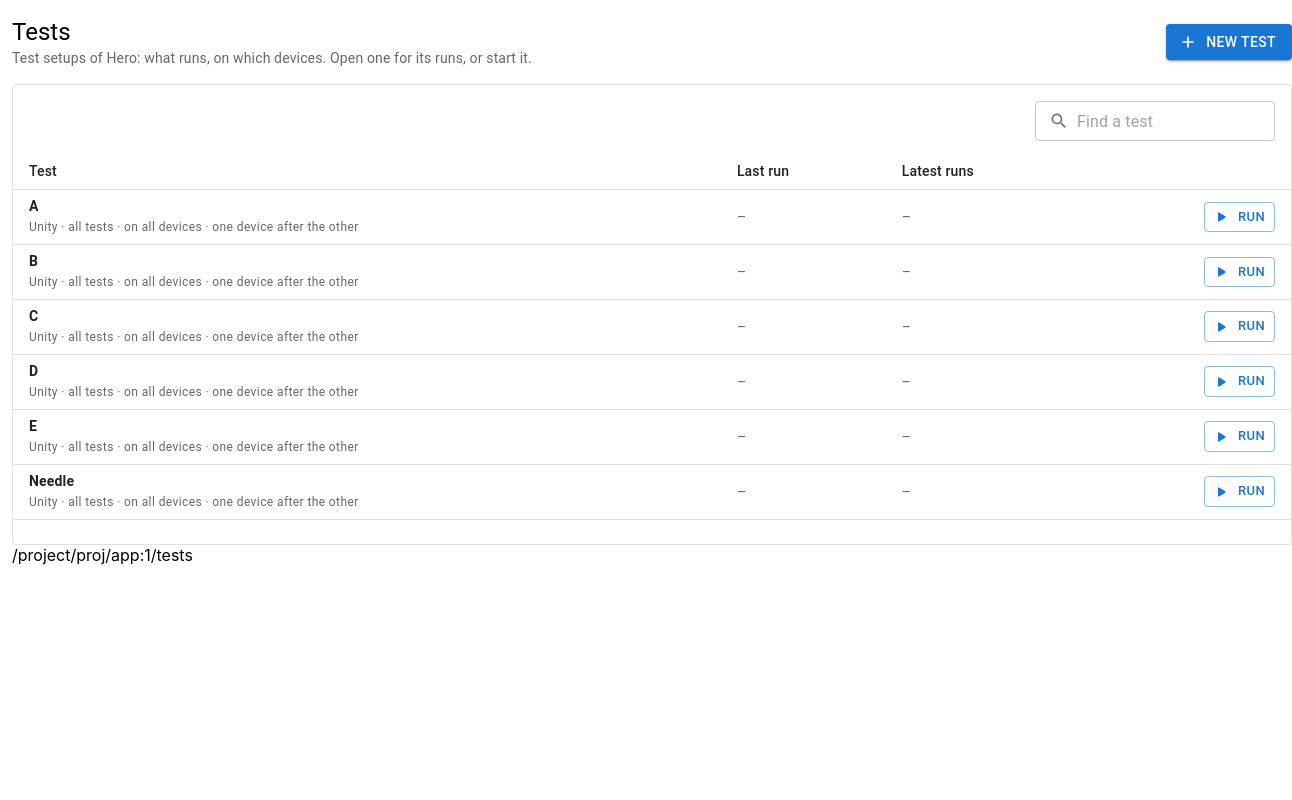
Test: TestsIndexPage filtering › searches from six tests on and says when nothing matches
Step 1. Type "needle" into the field labelled "Find a test" → (1176, 121), box [1077,101,1275,141]
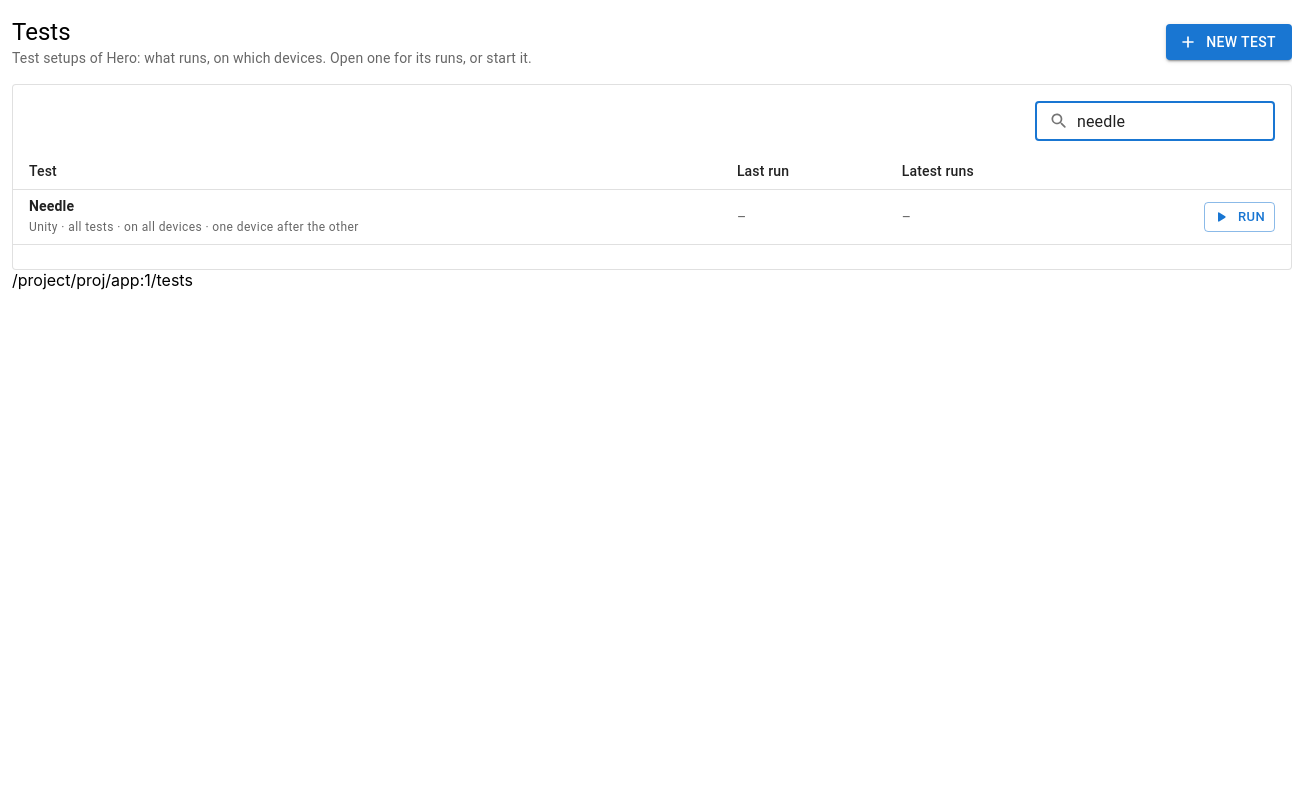
Result: the number of rows is 2 at [13,153,1291,190]; [13,190,1291,244]
Step 2. Replace the text in the field named "Find a test" with "zzz" → (1176, 121), box [1077,101,1275,141]
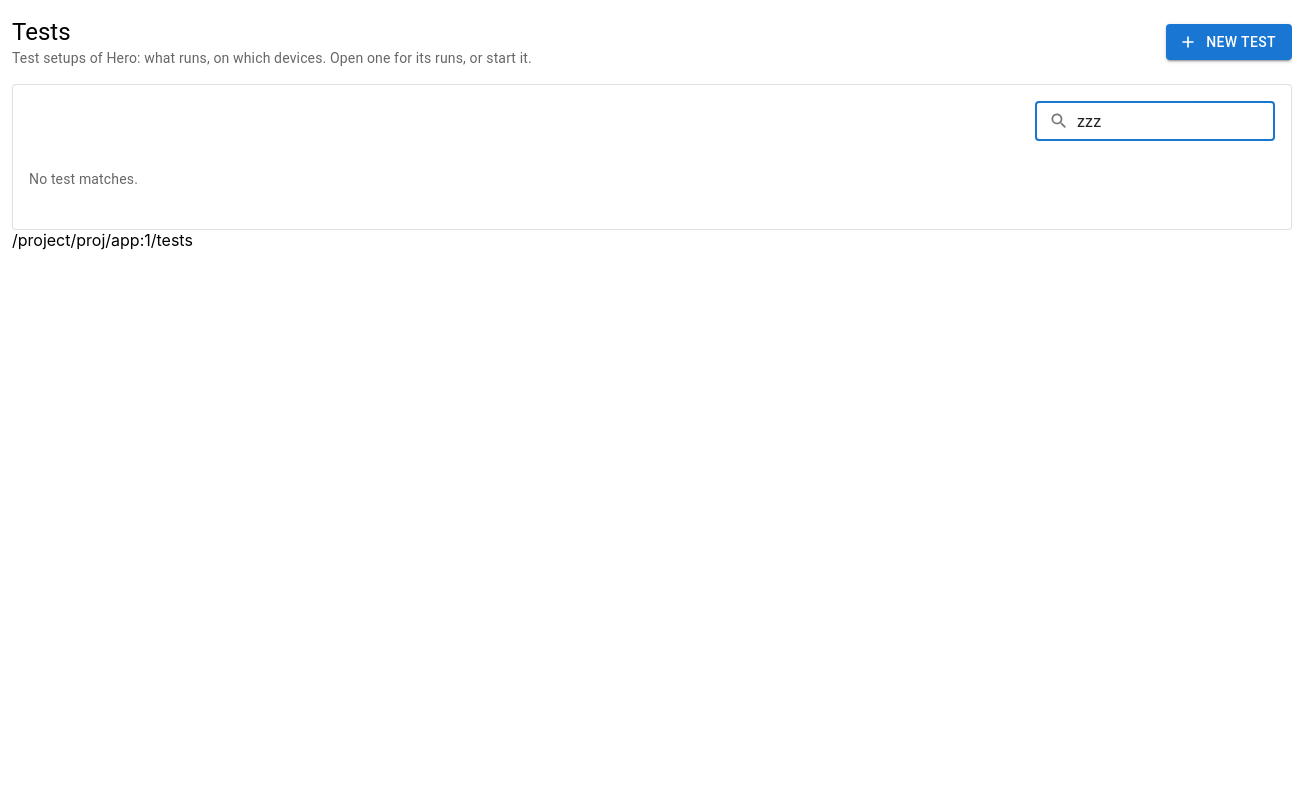
Result: the text "No test matches." is shown at [29,171,138,187]
